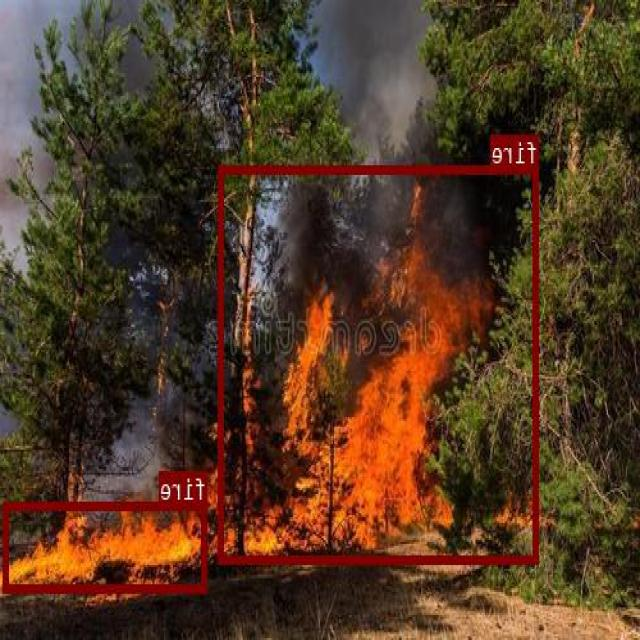fire: (220, 164, 540, 562), (4, 501, 208, 592)
